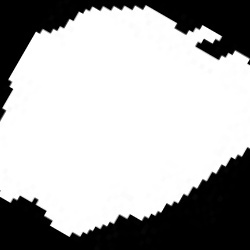spot: (1, 5, 249, 236)
